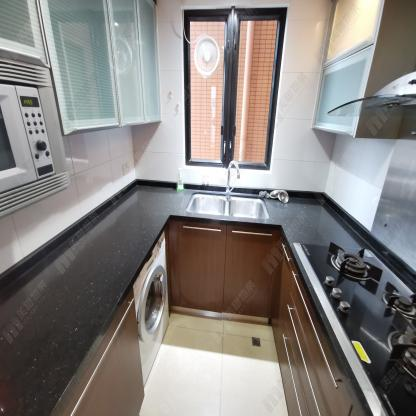Cupboard: (40, 1, 162, 134), (169, 219, 282, 316)
Exhaust Hood: (326, 71, 415, 117)
Microwave: (15, 59, 67, 210)
Sink: (183, 193, 272, 220)
Stove: (296, 241, 415, 416)
